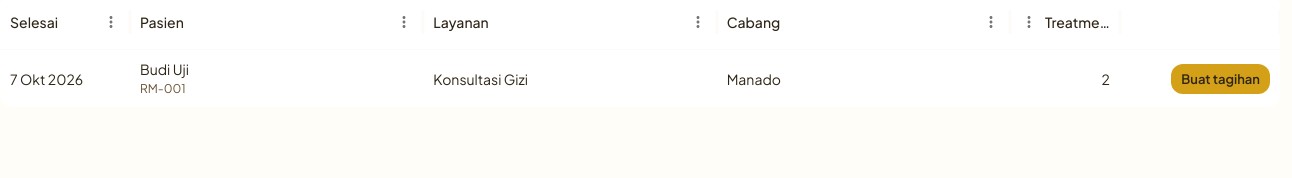
perlu ditagih › kegagalan membuat tagihan ditampilkan, tidak berpindah halaman
The image size is (1292, 178).
Click the button with aria-label "Buat tagihan Budi Uji". click: [1221, 79]
box: [1171,64,1270,94]
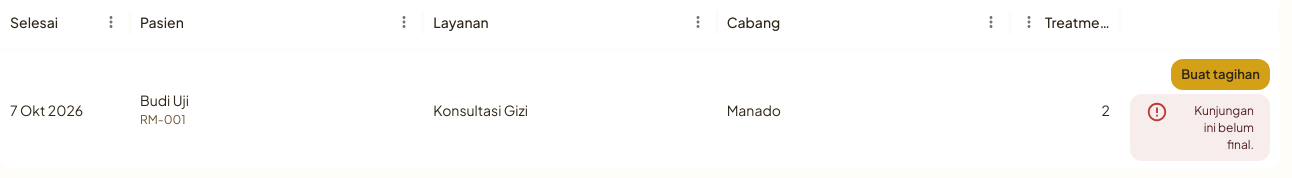
Now the message reads "Kunjungan ini belum final.", box [1194,103,1254,152]
